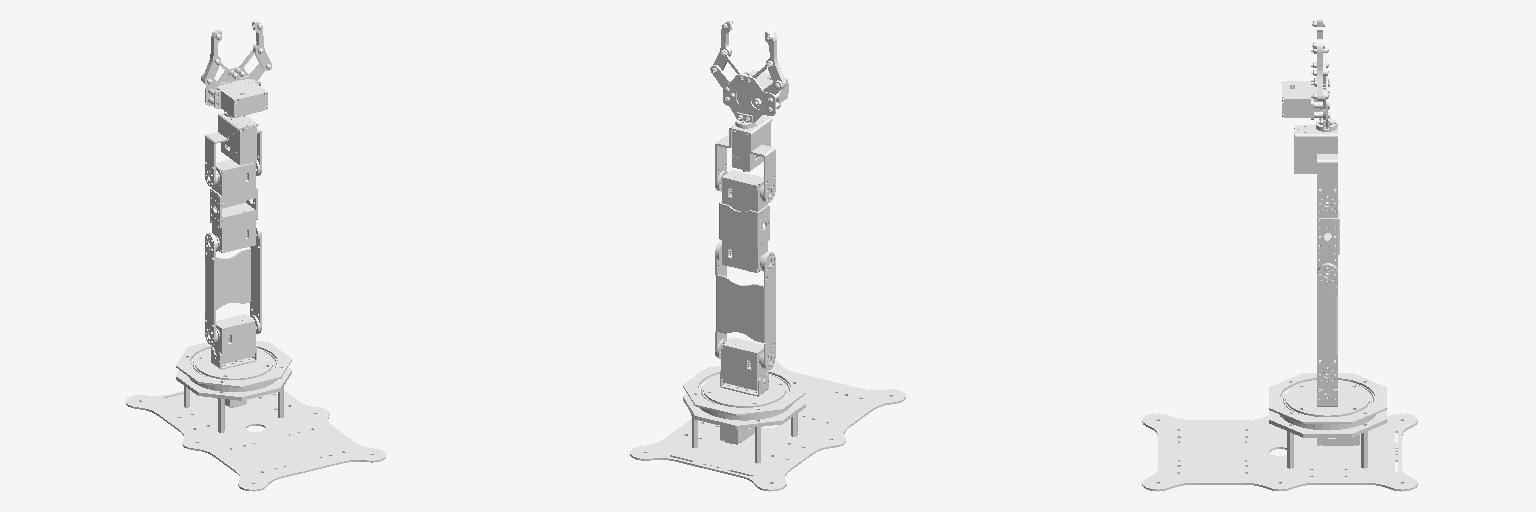
robot.urdf — base:
<?xml version="1.0" encoding="utf-8"?>
<robot name="base">
  <link name="base_link">
    <inertial>
      <origin xyz="9.39238242875229E-08 -0.0291505272091203 0.0195697238090583" rpy="0 0 0" />
      <mass value="0.149266011416949" />
      <inertia ixx="0.000391583406242042" ixy="1.46589197326268E-10" ixz="-3.31188115521229E-10"
               iyy="0.000184225236093749" iyz="7.92901093795136E-08" izz="0.0005662131926851" />
    </inertial>
    <visual>
      <origin xyz="0 0 0" rpy="0 0 0" />
      <geometry>
        <mesh filename="package://my_robot_description/meshes/base_link.STL" />
      </geometry>
      <material name="">
        <color rgba="1 1 1 1" />
      </material>
    </visual>
    <collision>
      <origin xyz="0 0 0" rpy="0 0 0" />
      <geometry>
        <mesh filename="package://my_robot_description/meshes/base_link.STL" />
      </geometry>
    </collision>
  </link>
  <link name="link1">
    <inertial>
      <origin xyz="0.000164020286804734 3.15405335460373E-08 0.00933458366550333" rpy="0 0 0" />
      <mass value="0.0693946447850397" />
      <inertia ixx="3.32392024039446E-05" ixy="4.94923594094639E-11" ixz="-2.9263566807787E-08"
               iyy="3.71205770235887E-05" iyz="1.06366942303657E-12" izz="6.1368430162542E-05" />
    </inertial>
    <visual>
      <origin xyz="0 0 0" rpy="0 0 0" />
      <geometry>
        <mesh filename="package://my_robot_description/meshes/link1.STL" />
      </geometry>
      <material name="">
        <color rgba="1 1 1 1" />
      </material>
    </visual>
    <collision>
      <origin xyz="0 0 0" rpy="0 0 0" />
      <geometry>
        <mesh filename="package://my_robot_description/meshes/link1.STL" />
      </geometry>
    </collision>
  </link>
  <joint name="joint1" type="continuous">
    <origin xyz="0 -0.01 0.056" rpy="0 0 0" />
    <parent link="base_link" />
    <child link="link1" />
    <axis xyz="0 0 1" />
    <limit lower="-3.14159" upper="3.14159" effort="0" velocity="0" />
  </joint>
  <link name="link2">
    <inertial>
      <origin xyz="0.0520000000000004 0.00295919060812887 0.026117324299524" rpy="0 0 0" />
      <mass value="0.0173722544473974" />
      <inertia ixx="8.32568495630539E-06" ixy="2.71645106353293E-20" ixz="-1.20016871440835E-19"
               iyy="1.86017491430925E-05" iyz="1.53022172792303E-18" izz="1.15710578009228E-05" />
    </inertial>
    <visual>
      <origin xyz="0 0 0" rpy="0 0 0" />
      <geometry>
        <mesh filename="package://my_robot_description/meshes/link2.STL" />
      </geometry>
      <material name="">
        <color rgba="1 1 1 1" />
      </material>
    </visual>
    <collision>
      <origin xyz="0 0 0" rpy="0 0 0" />
      <geometry>
        <mesh filename="package://my_robot_description/meshes/link2.STL" />
      </geometry>
    </collision>
  </link>
  <joint name="joint2" type="revolute">
    <origin xyz="0.02525 0 0.0365" rpy="0 -1.5708 0" />
    <parent link="link1" />
    <child link="link2" />
    <axis xyz="0 0 -1" />
    <limit lower="-2.3562" upper="2.3562" effort="0" velocity="0" />
  </joint>
  <link name="link3">
    <inertial>
      <origin xyz="0.0369999999999993 0.000485443578316758 0.0255785731666811" rpy="0 0 0" />
      <mass value="0.0692821611405452" />
      <inertia ixx="1.28669130490539E-05" ixy="-2.12733880176234E-12" ixz="6.07711502882621E-21"
               iyy="1.96936067365623E-05" iyz="-1.60665538624124E-17" izz="1.1446278077117E-05" />
    </inertial>
    <visual>
      <origin xyz="0 0 0" rpy="0 0 0" />
      <geometry>
        <mesh filename="package://my_robot_description/meshes/link3.STL" />
      </geometry>
      <material name="">
        <color rgba="1 1 1 1" />
      </material>
    </visual>
    <collision>
      <origin xyz="0 0 0" rpy="0 0 0" />
      <geometry>
        <mesh filename="package://my_robot_description/meshes/link3.STL" />
      </geometry>
    </collision>
  </link>
  <joint name="joint3" type="revolute">
    <origin xyz="0.104 0 0" rpy="0 0 0" />
    <parent link="link2" />
    <child link="link3" />
    <axis xyz="0 0 1" />
    <limit lower="-2.3562" upper="2.3562" effort="0" velocity="0" />
  </joint>
  <link name="link4">
    <inertial>
      <origin xyz="0.0401338107909111 -0.00937465055803529 0.0260242456296293" rpy="0 0 0" />
      <mass value="0.041941787628826" />
      <inertia ixx="9.58830012712701E-06" ixy="6.37430608552898E-07" ixz="-4.94923594924776E-11"
               iyy="1.26734900296751E-05" iyz="-1.0636683326456E-12" izz="1.32156309730105E-05" />
    </inertial>
    <visual>
      <origin xyz="0 0 0" rpy="0 0 0" />
      <geometry>
        <mesh filename="package://my_robot_description/meshes/link4.STL" />
      </geometry>
      <material name="">
        <color rgba="1 1 1 1" />
      </material>
    </visual>
    <collision>
      <origin xyz="0 0 0" rpy="0 0 0" />
      <geometry>
        <mesh filename="package://my_robot_description/meshes/link4.STL" />
      </geometry>
    </collision>
  </link>
  <joint name="joint4" type="revolute">
    <origin xyz="0.074 0 0" rpy="0 0 0" />
    <parent link="link3" />
    <child link="link4" />
    <axis xyz="0 0 -1" />
    <limit lower="-2.3562" upper="2.3562" effort="0" velocity="0" />
  </joint>
  <link name="link5">
    <inertial>
      <origin xyz="0.0182040505144127 -0.00325169142053163 0.023787342145935" rpy="0 0 0" />
      <mass value="0.0385912685705755" />
      <inertia ixx="6.75712691502228E-06" ixy="-7.92901093457083E-08" ixz="3.31188422629993E-10"
               iyy="5.8266564508519E-06" iyz="1.4661775474519E-10" izz="9.49954359531977E-06" />
    </inertial>
    <visual>
      <origin xyz="0 0 0" rpy="0 0 3.1416" />
      <geometry>
        <mesh filename="package://my_robot_description/meshes/link5.STL" />
      </geometry>
      <material name="">
        <color rgba="1 1 1 1" />
      </material>
    </visual>
    <collision>
      <origin xyz="0 0 0" rpy="0 0 3.1416" />
      <geometry>
        <mesh filename="package://my_robot_description/meshes/link5.STL" />
      </geometry>
    </collision>
  </link>
  <joint name="joint5" type="revolute">
    <origin xyz="0.0685 -0.001 0.026" rpy="1.5708 0 1.5708" />
    <parent link="link4" />
    <child link="link5" />
    <axis xyz="0 0 1" />
    <limit lower="-2.3562" upper="2.3562" effort="0" velocity="0" />
  </joint>
  <link name="endlink1">
    <inertial>
      <origin xyz="0.0279577564604767 -0.00911807940438754 -0.000721555146633406" rpy="0 0 0" />
      <mass value="0.00593992628457846" />
      <inertia ixx="3.06285612997732E-07" ixy="7.0874684155633E-09" ixz="9.18404786157034E-17"
               iyy="9.38368478357113E-07" iyz="-8.19011035020241E-17" izz="1.19943502216149E-06" />
    </inertial>
    <visual>
      <origin xyz="0 0 0" rpy="0 0 0" />
      <geometry>
        <mesh filename="package://my_robot_description/meshes/endlink2.STL" />
      </geometry>
      <material name="">
        <color rgba="1 1 1 1" />
      </material>
    </visual>
    <collision>
      <origin xyz="0 0 0" rpy="0 0 0" />
      <geometry>
        <mesh filename="package://my_robot_description/meshes/endlink2.STL" />
      </geometry>
    </collision>
  </link>
  <joint name="endjoint1" type="revolute">
    <origin xyz="-0.0035 -0.013901 0.025156" rpy="3.1416 -1.5708 0" />
    <parent link="link5" />
    <child link="endlink1" />
    <axis xyz="0 0 -1" />
    <limit lower="-1.134464" upper="1.134464" effort="0" velocity="0" />
  </joint>
  <link name="endlink2">
    <inertial>
      <origin xyz="0.026421974687879 0.00871158460949618 -0.0011233744422409" rpy="0 0 0" />
      <mass value="0.00632015786452068" />
      <inertia ixx="3.12518939647815E-07" ixy="-1.0019078008249E-08" ixz="6.63063945811048E-17"
               iyy="9.45476735818537E-07" iyz="-8.2722812327352E-17" izz="1.20745506221357E-06" />
    </inertial>
    <visual>
      <origin xyz="0 0 0" rpy="0 0 0" />
      <geometry>
        <mesh filename="package://my_robot_description/meshes/endlink1.STL" />
      </geometry>
      <material name="">
        <color rgba="1 1 1 1" />
      </material>
    </visual>
    <collision>
      <origin xyz="0 0 0" rpy="0 0 0" />
      <geometry>
        <mesh filename="package://my_robot_description/meshes/endlink1.STL" />
      </geometry>
    </collision>
  </link>
  <joint name="endjoint2" type="revolute">
    <origin xyz="-0.004 0.01375 0.025" rpy="3.1416 -1.5708 0" />
    <parent link="link5" />
    <child link="endlink2" />
    <axis xyz="0 0 1" />
    <limit lower="-1.134464" upper="1.134464" effort="0" velocity="0" />
    <mimic joint="endjoint1" multiplier="1" offset="0" />
  </joint>
</robot>

--- Facts derived from the render (not from the file) ---
3 views of the same robot in one strip: view 1: azimuth 30°, elevation 25°; view 2: azimuth 150°, elevation 25°; view 3: azimuth 270°, elevation 25° (orthographic).
Model base with 8 links and 7 joints (6 revolute, 1 continuous), rooted at base_link, posed every joint at zero.
Links seen in each view (by area): view 1: base_link, link2, link1, link3, link4, link5, endlink1, endlink2; view 2: base_link, link2, link1, link3, link4, link5, endlink1, endlink2; view 3: base_link, link1, link4, link2, link5, link3, endlink1.
Link boxes in pixels (x1=…): base_link: x1=126, y1=341, x2=385, y2=491; link2: x1=205, y1=223, x2=261, y2=344; link1: x1=188, y1=314, x2=277, y2=391; link3: x1=210, y1=159, x2=257, y2=252; link4: x1=205, y1=113, x2=261, y2=186; link5: x1=205, y1=66, x2=267, y2=117; endlink1: x1=235, y1=21, x2=271, y2=80; endlink2: x1=201, y1=29, x2=238, y2=97; base_link: x1=630, y1=360, x2=905, y2=491; link2: x1=715, y1=240, x2=775, y2=370; link1: x1=698, y1=337, x2=792, y2=420; link3: x1=719, y1=170, x2=769, y2=272; link4: x1=715, y1=115, x2=775, y2=202; link5: x1=723, y1=70, x2=788, y2=128; endlink1: x1=710, y1=21, x2=750, y2=103; endlink2: x1=746, y1=30, x2=785, y2=108; base_link: x1=1142, y1=373, x2=1417, y2=491; link1: x1=1279, y1=360, x2=1375, y2=429; link4: x1=1294, y1=125, x2=1337, y2=212; link2: x1=1317, y1=263, x2=1337, y2=383; link5: x1=1282, y1=76, x2=1337, y2=131; link3: x1=1317, y1=189, x2=1339, y2=276; endlink1: x1=1311, y1=39, x2=1329, y2=119.
Size in the robot's own frame: 0.17 by 0.26 by 0.4401 metres.
Meshes: 8 distinct files referenced, 8 mesh visuals loaded (8 binary STL).
